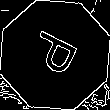P_SE: (24, 27, 86, 83)
